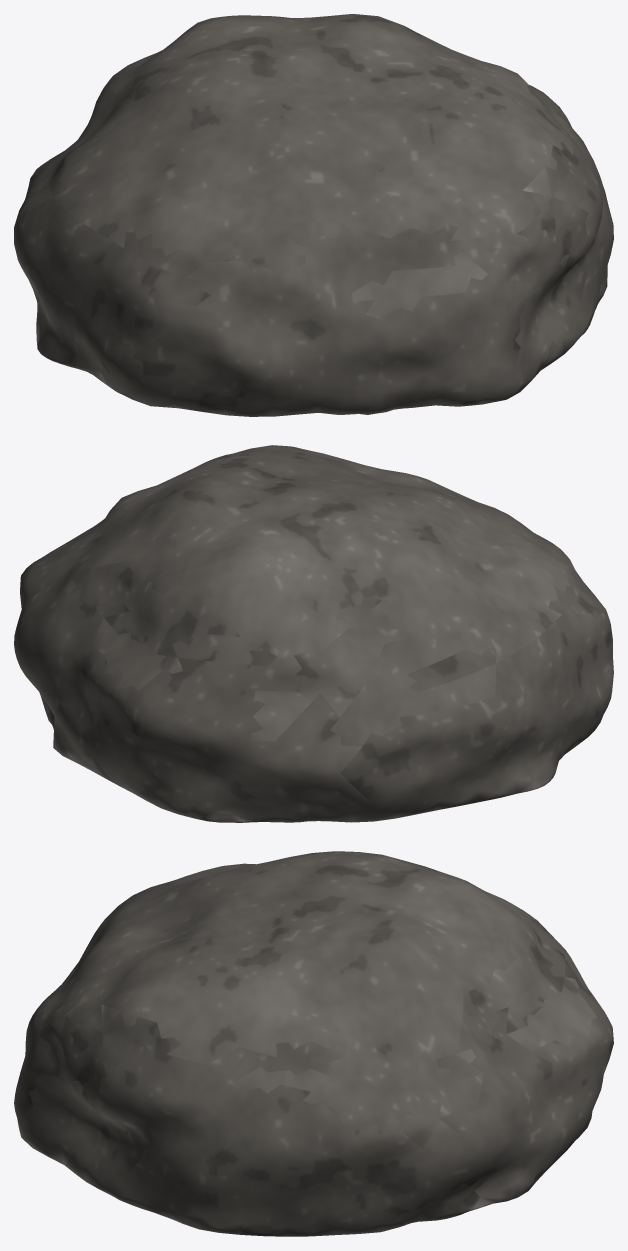
Rendered from rock_hazard_a.glb.
3 views of the same model, one above another, from view 1: azimuth 30°, elevation 25°; view 2: azimuth 150°, elevation 25°; view 3: azimuth 270°, elevation 25° (orthographic). The views are drawn at different scales.
Parts seen in each view (by area): view 1: rock_hazard_a; view 2: rock_hazard_a; view 3: rock_hazard_a.
Part boxes in pixels (left/top/right/bottom): rock_hazard_a: left=14, top=14, right=613, bottom=416; rock_hazard_a: left=14, top=445, right=613, bottom=822; rock_hazard_a: left=14, top=851, right=613, bottom=1236.
Bounding box in the file's own units: 2.06 × 0.9249 × 2.08.
Materials: 1 (1 with a texture image).
